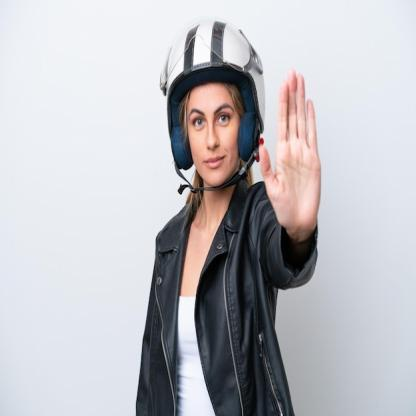stop: (256, 64, 324, 235)
